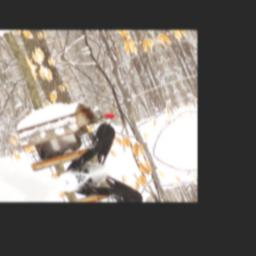Woodpecker: (56, 111, 134, 175)
